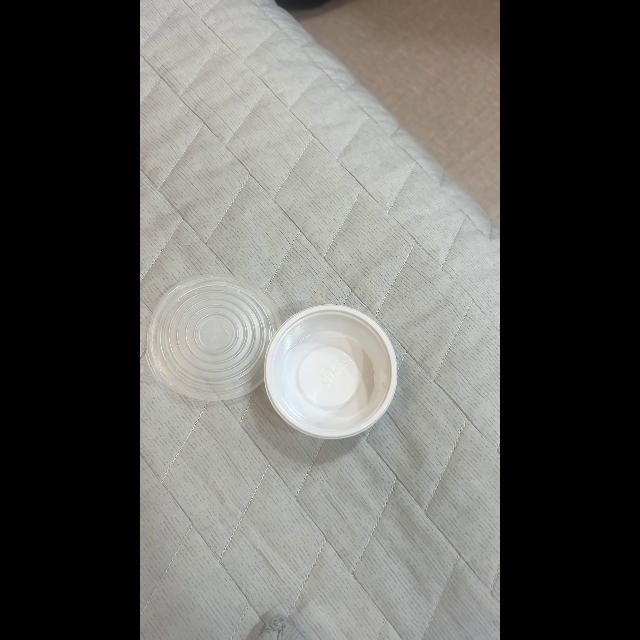clean: (262, 304, 398, 436), (148, 276, 282, 400)
